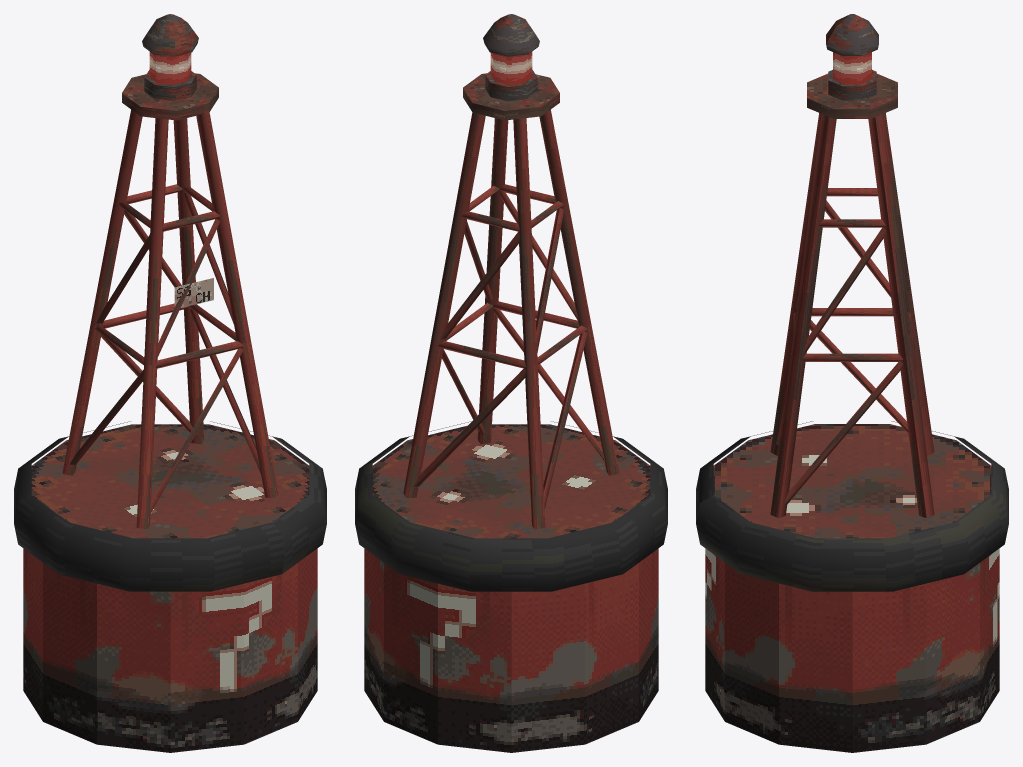
The model's file is buoy_marker.glb.
The picture shows the model from 3 angles, left to right: view 1: azimuth 30°, elevation 25°; view 2: azimuth 150°, elevation 25°; view 3: azimuth 270°, elevation 25°; orthographic projection.
Visible parts, largest first — view 1: buoy_marker; view 2: buoy_marker; view 3: buoy_marker.
Part boxes in pixels (<box>): buoy_marker: <box>14,14,326,752</box>; buoy_marker: <box>355,14,667,752</box>; buoy_marker: <box>696,14,1008,752</box>.
Size of the model in its own units: 0.8925 by 2.12 by 0.8925.
Materials: 2 (2 with a texture image).
